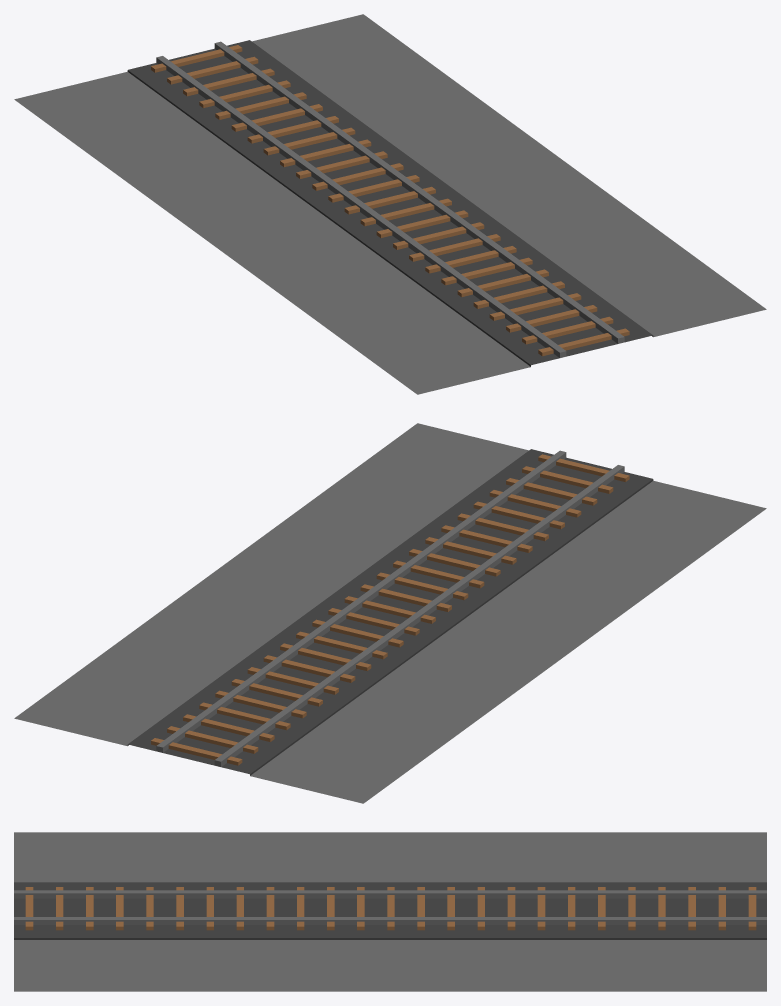
Rendered from SM_Floor_Railway_06.fbx.
The picture shows the model from 3 angles, top to bottom: view 1: azimuth 30°, elevation 25°; view 2: azimuth 150°, elevation 25°; view 3: azimuth 270°, elevation 25°; orthographic projection. The views are drawn at different scales.
Parts seen in each view (by area): view 1: SM_Floor_Railway_06; view 2: SM_Floor_Railway_06; view 3: SM_Floor_Railway_06.
Boxes of the visible parts, bbox=[...] form: SM_Floor_Railway_06: bbox=[14, 14, 766, 394]; SM_Floor_Railway_06: bbox=[14, 423, 766, 803]; SM_Floor_Railway_06: bbox=[14, 832, 766, 991].
Bounding box in the file's own units: 10 × 0.2 × 20.
